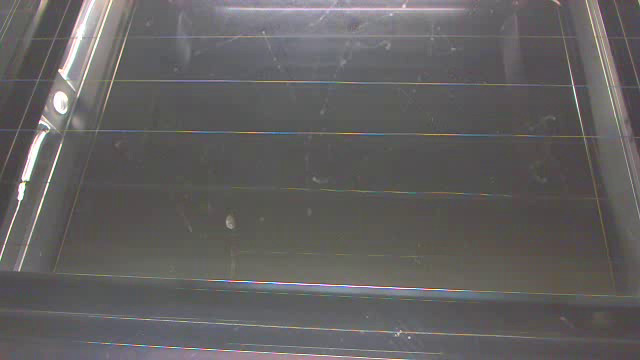alpha: (223, 216, 236, 230)
